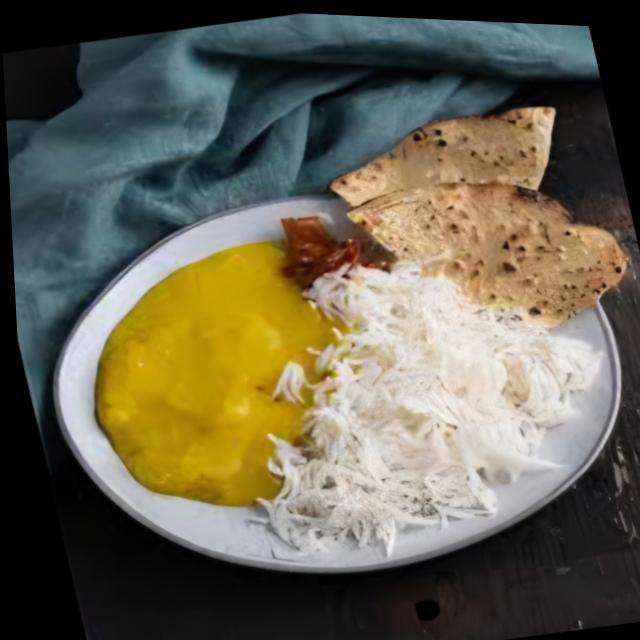CHAPATHI: (329, 104, 627, 331)
DAL: (101, 241, 326, 506)
PICKLE: (279, 212, 382, 287)
RICE: (252, 260, 609, 566)
